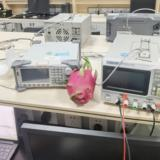pitaya: (66, 57, 98, 106)
